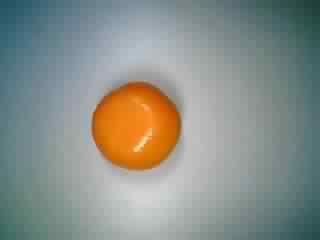orange: (90, 81, 185, 175)
